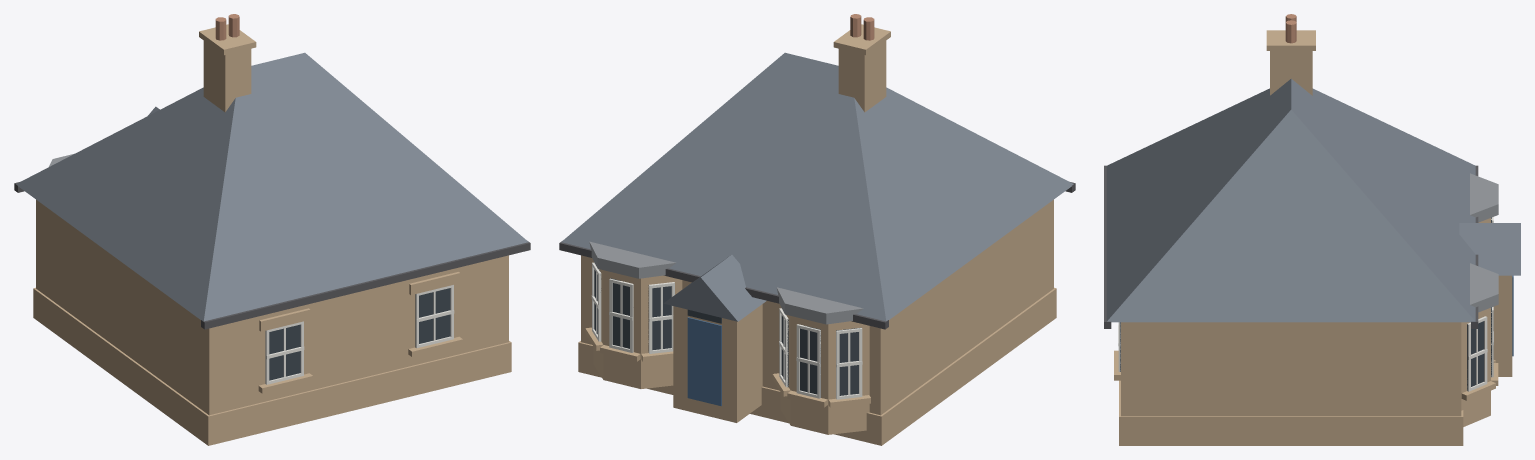
The model's file is bungalow_b.glb.
3 views of the same model, side by side, from view 1: azimuth 30°, elevation 25°; view 2: azimuth 150°, elevation 25°; view 3: azimuth 270°, elevation 25° (orthographic).
Visible parts, largest first — view 1: bungalow_b; view 2: bungalow_b; view 3: bungalow_b.
Part boxes in pixels (x1,y1,x2,y2): bungalow_b: [14, 14, 530, 445]; bungalow_b: [559, 14, 1075, 445]; bungalow_b: [1104, 14, 1520, 445].
Bounding box in the file's own units: 8.7 × 8.62 × 9.8.
